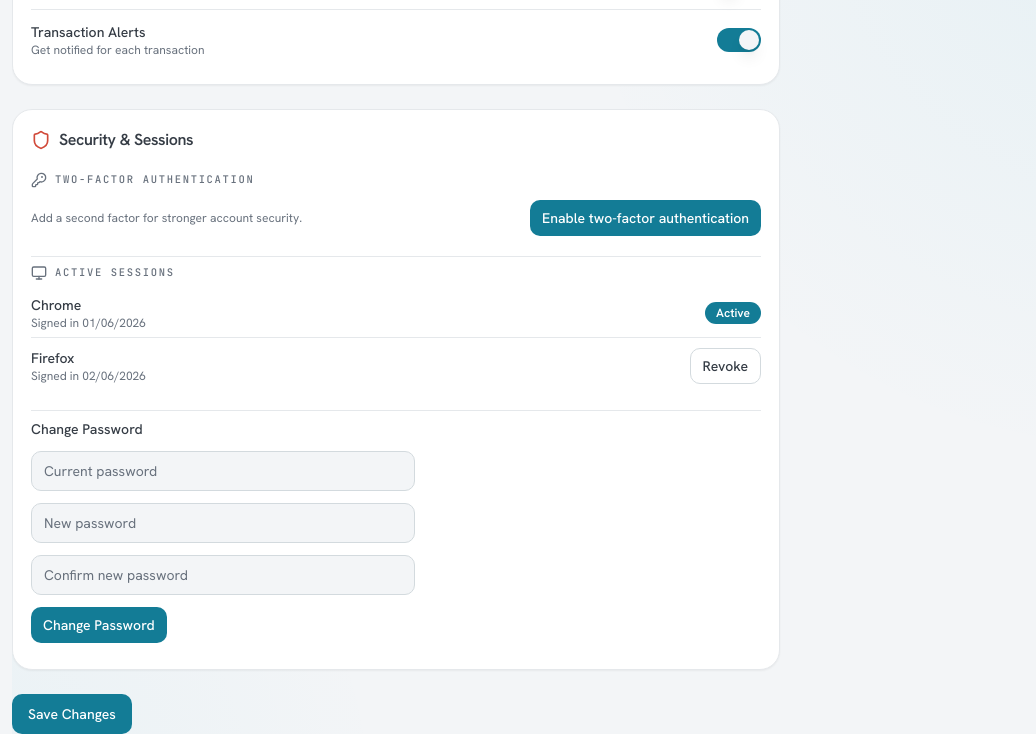
Scenario: UserProfile — session management (#202) › lists active sessions and revokes a non-current one
This screenshot has width=1036, height=734.
(page scrolled)
Expected: the text "Firefox" is shown, [31, 348, 74, 366]
Expected: the text "Chrome" is shown, [31, 296, 81, 314]
Click the button "Revoke".
click(725, 366)  # box [690, 348, 761, 384]
(page scrolled)
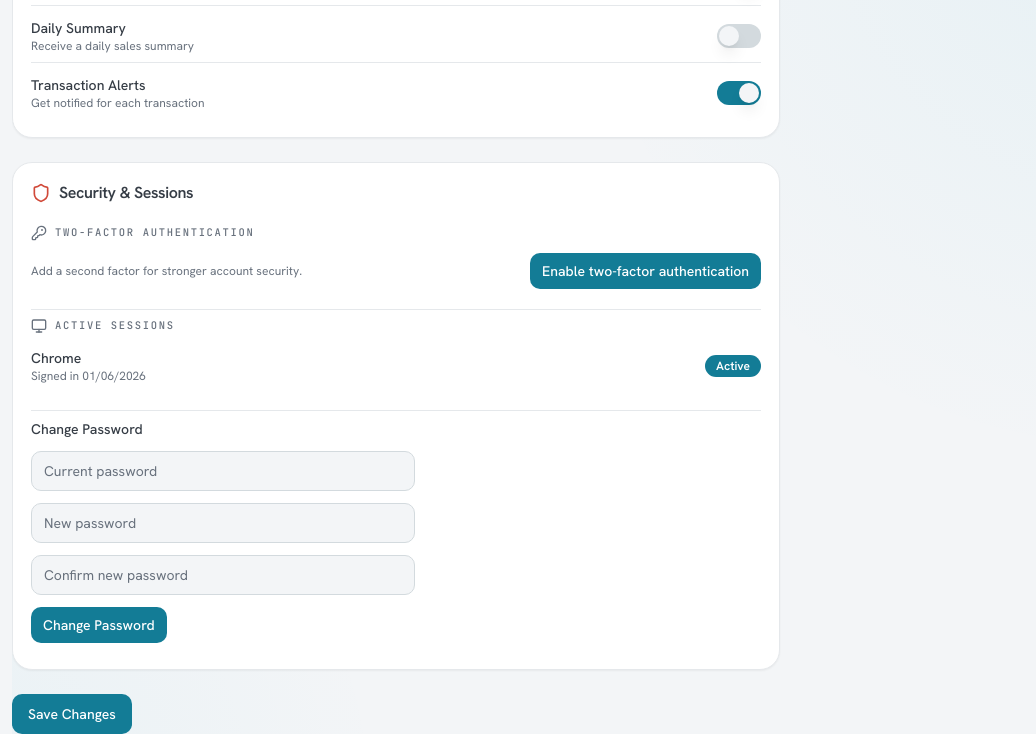
Expected: the text "Chrome" is shown, [31, 348, 81, 366]
Expected: the text "Firefox" is gone
